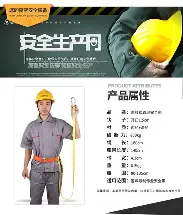safety belt2: (29, 147, 70, 172)
